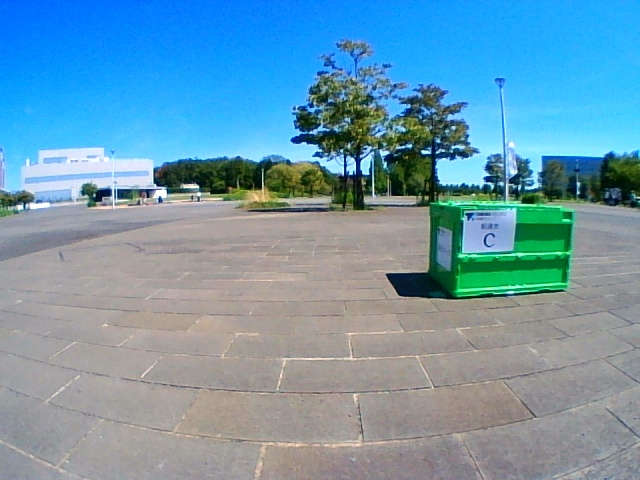green_box: (429, 201, 575, 297)
tag_c: (466, 212, 513, 252)
